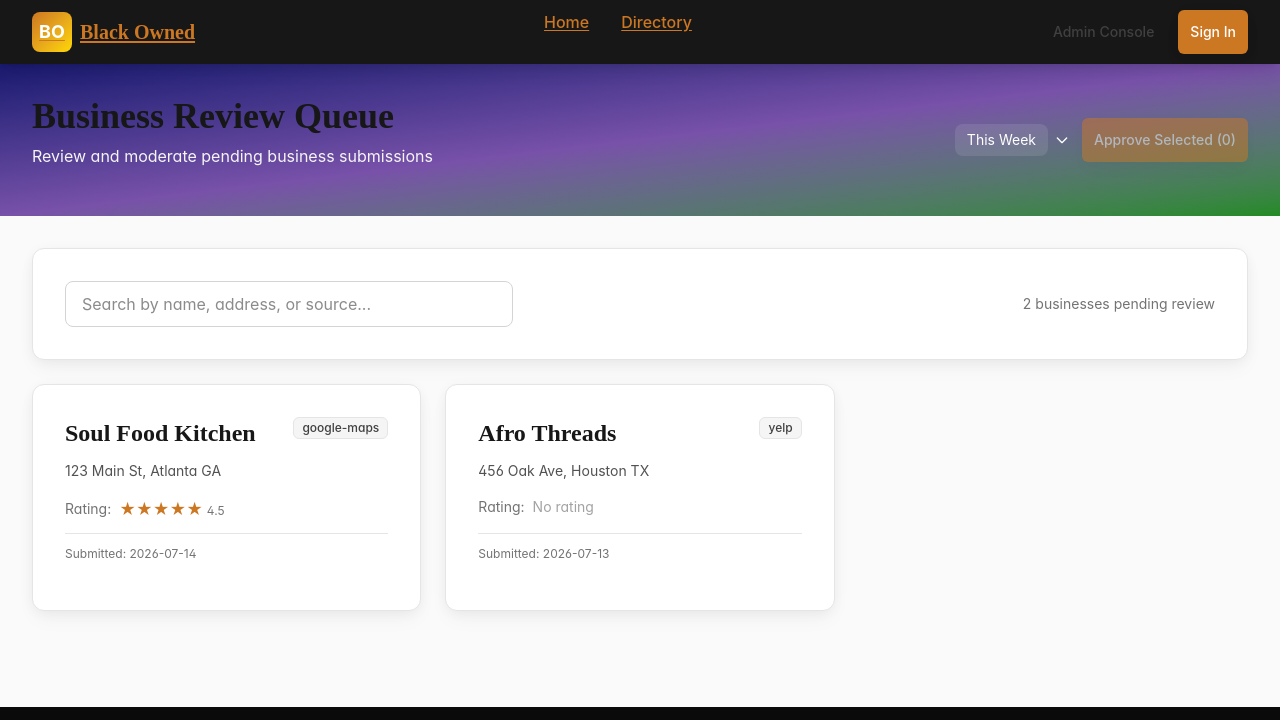
Test: BusinessReviewPage › shows N/A for missing phone and website
This screenshot has width=1280, height=720.
Click the heading "Afro Threads". click: (547, 433)
box: 478,417 -> 616,449
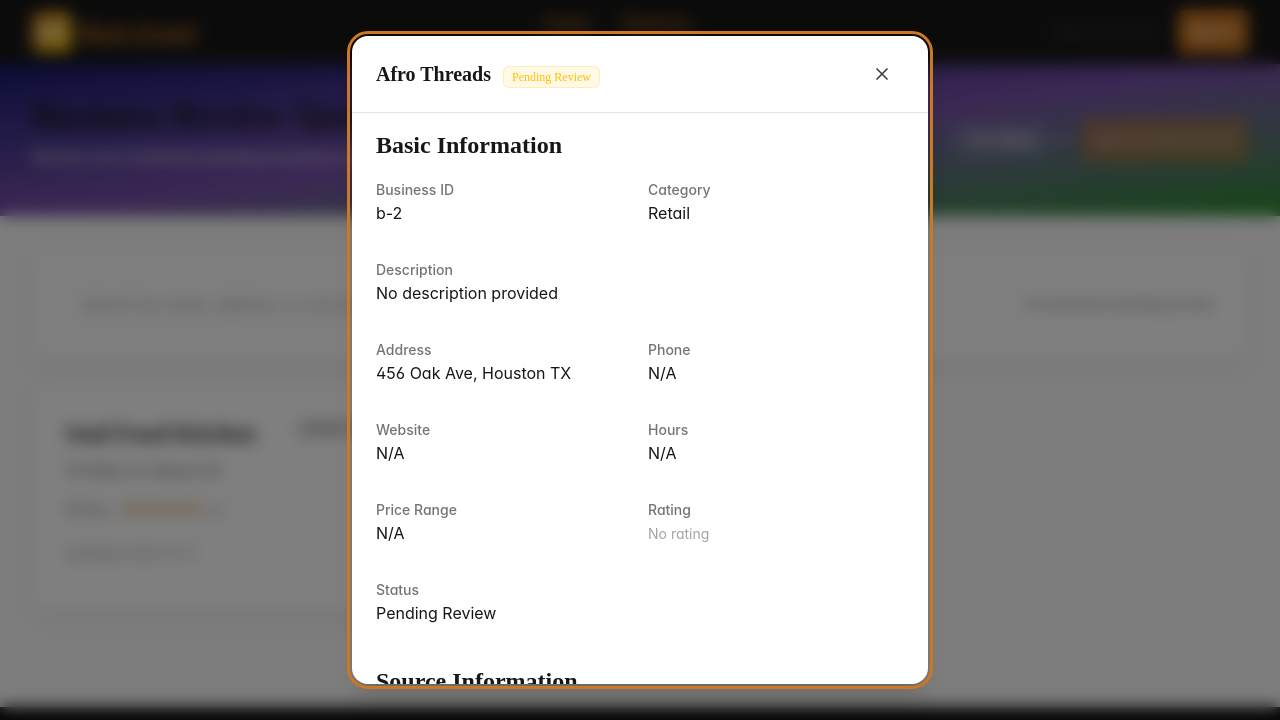
Expected: the dialog is shown
